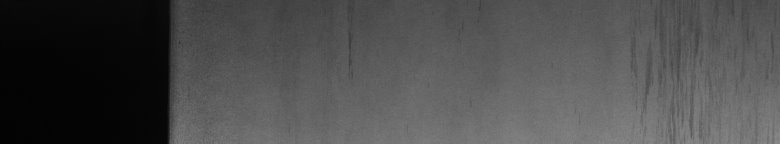ka: (644, 34, 700, 136)
